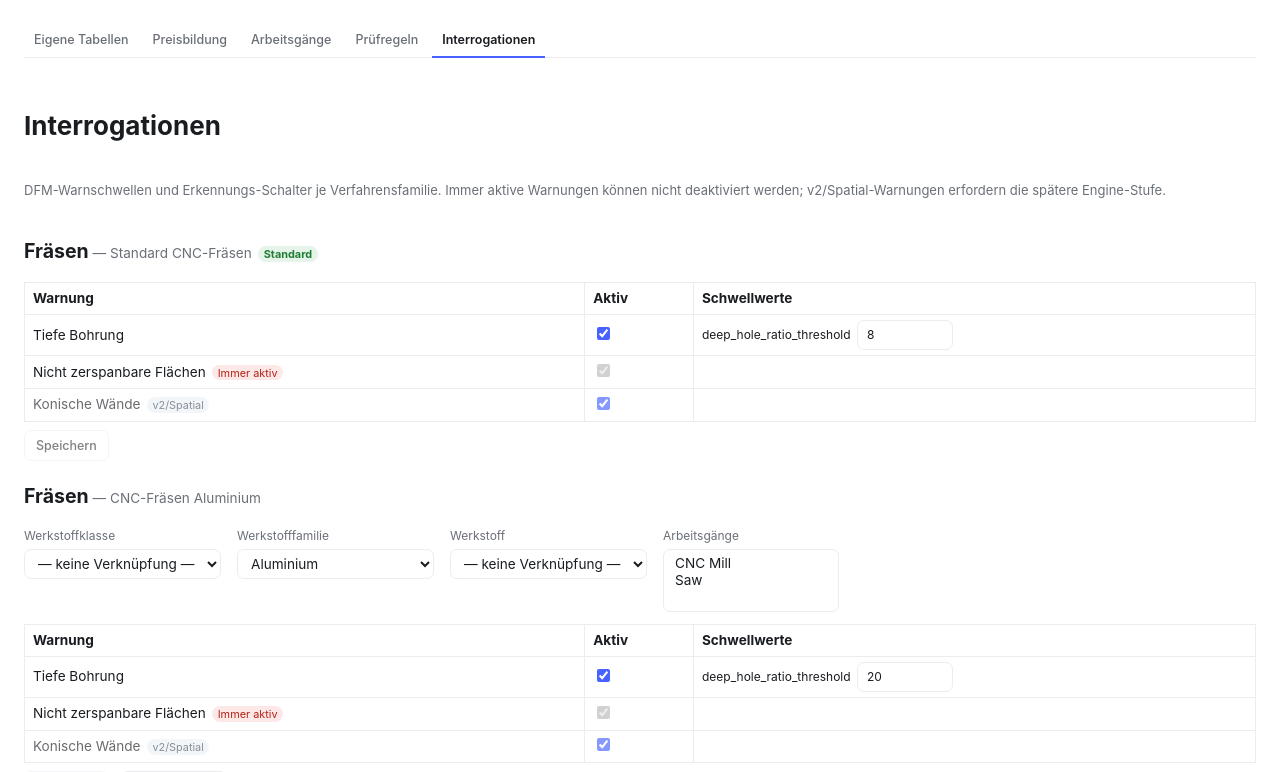
Test: InterrogationsPage › saves edited toggles + thresholds via PUT (M4.7 acceptance)
expect the text "Tiefe Bohrung" is shown 2 times: met, box [33,327,124,343]; [33,668,124,684]
Click the 1st checkbox named "Tiefe Bohrung Aktiv".
click(604, 334)  # box [597,327,610,340]
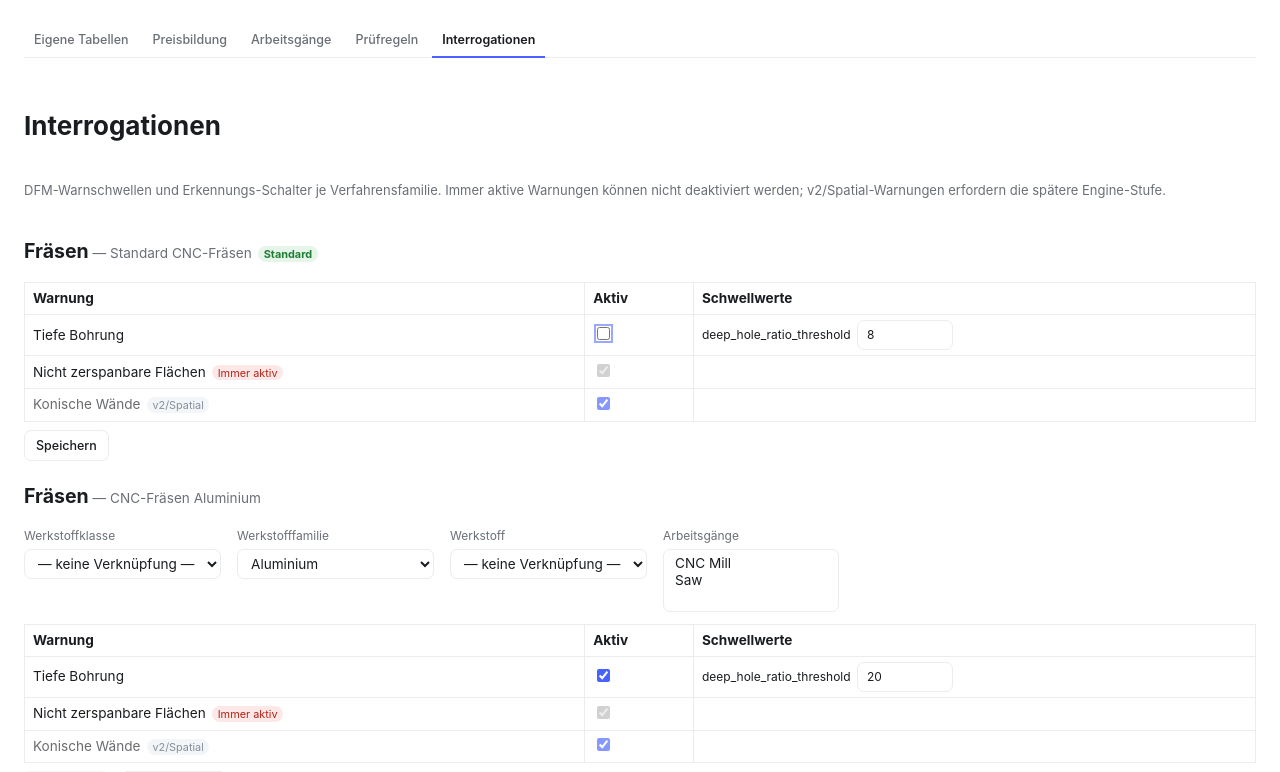
Replace the text in the number field named "Standard CNC-Fräsen deep_hole_ratio_threshold" with "12.5" at {"x": 905, "y": 335}, box [857,320,953,350]
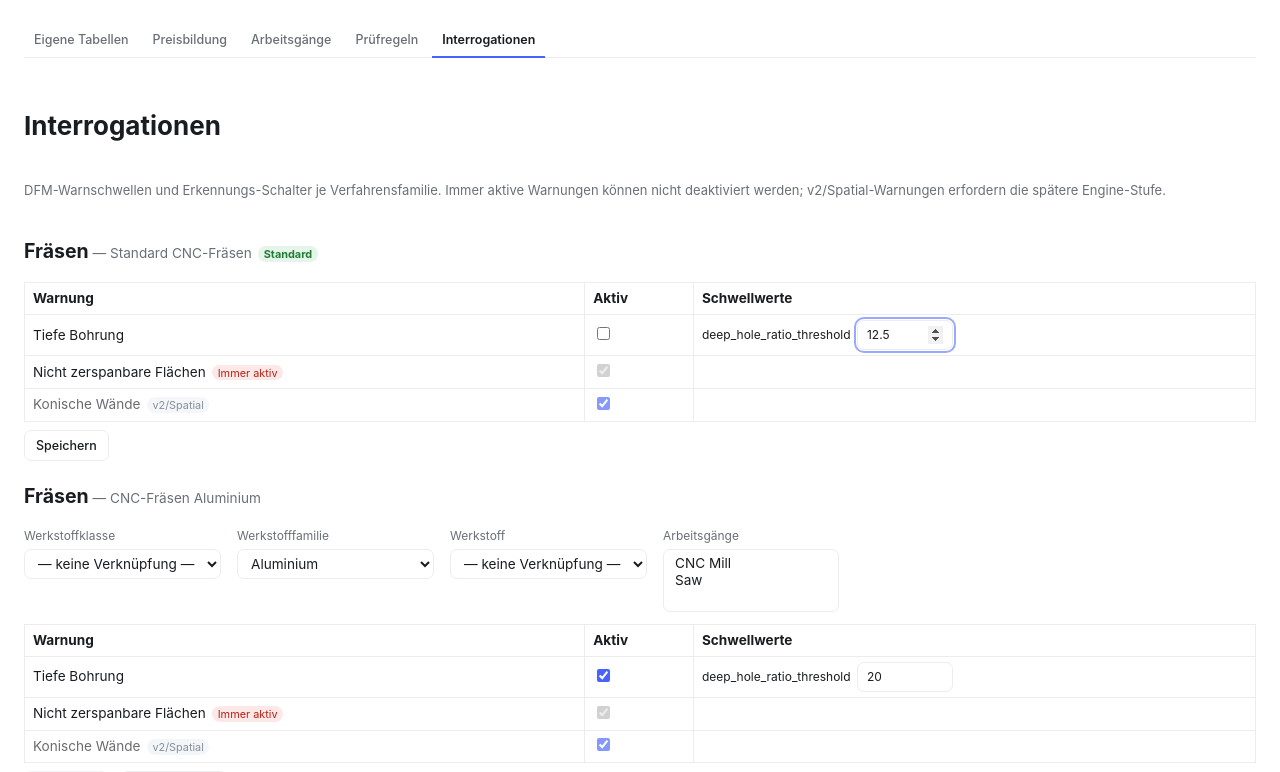
Click the button "Speichern" below "Standard CNC-Fräsen".
click(66, 445)  # box [24,430,109,461]
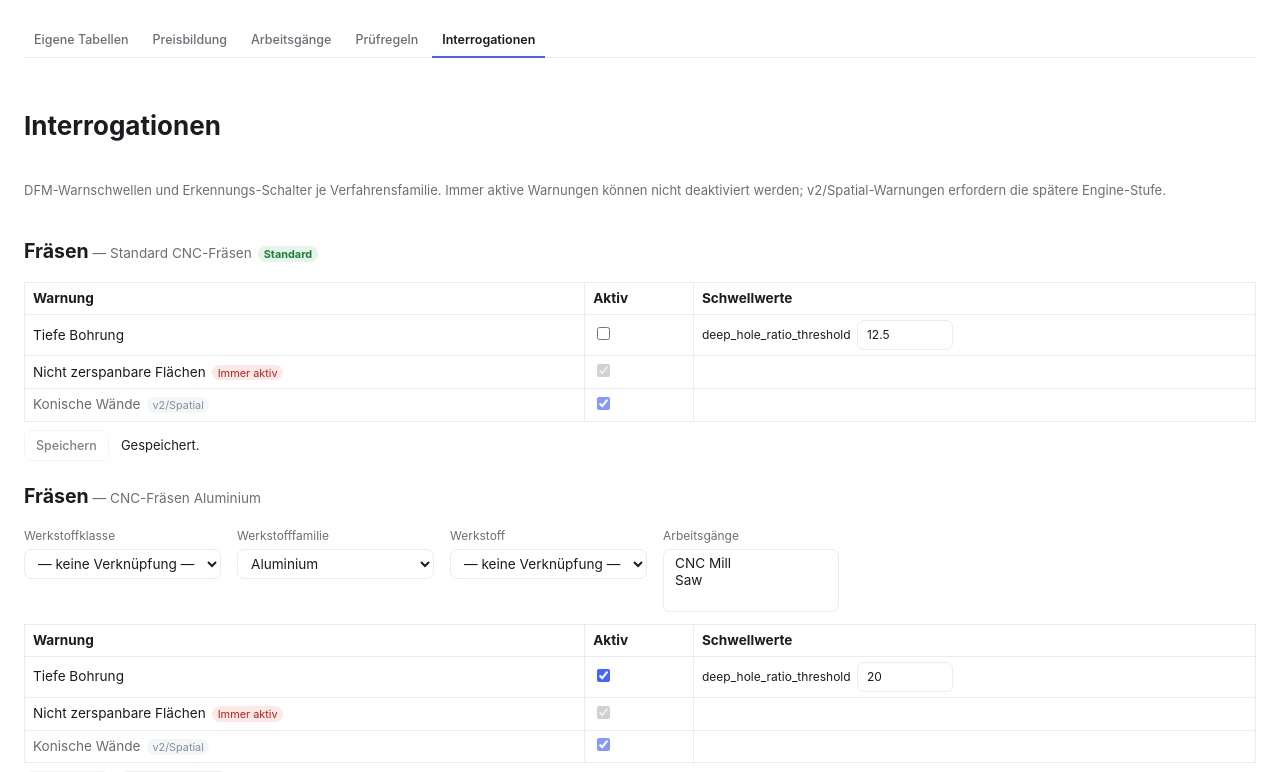
expect the message reads "Gespeichert.": met, box [121,437,200,453]
